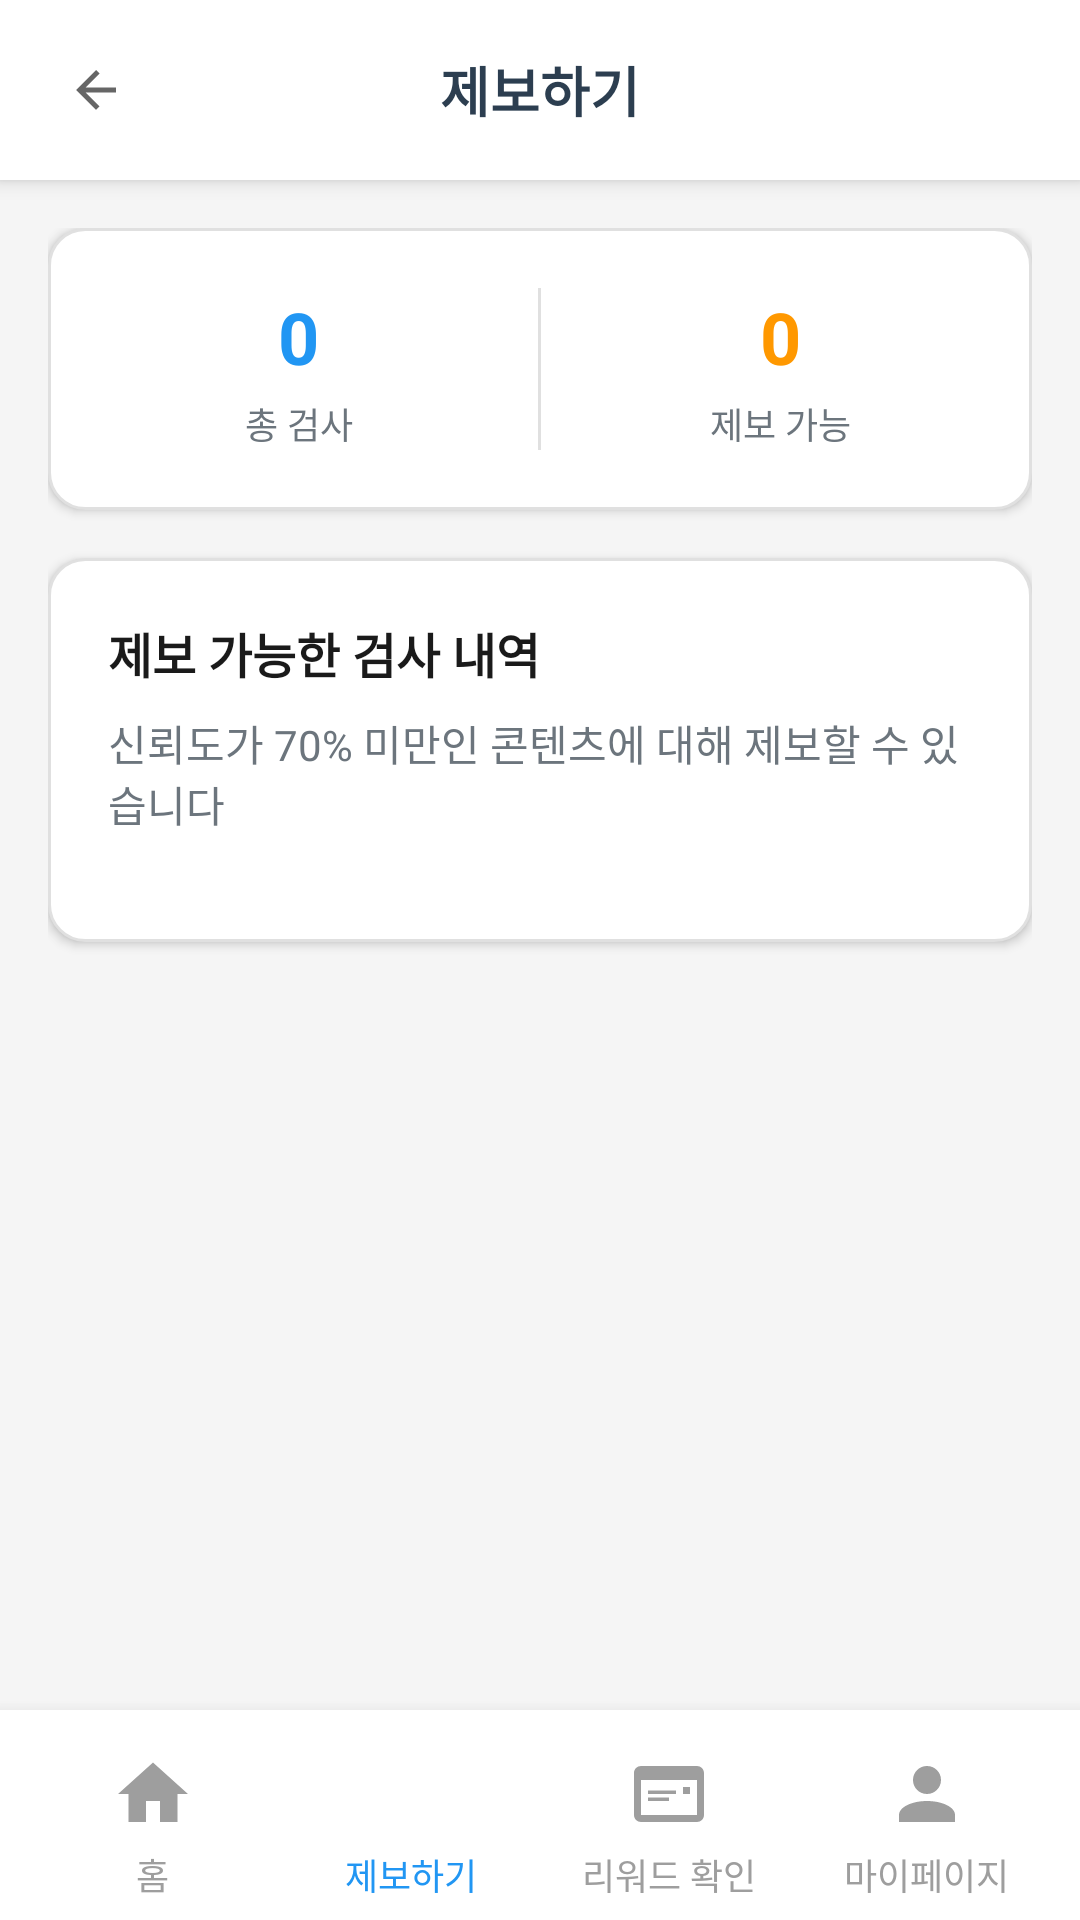

Point at icon controls on the screen. Image size 1080px x 1920px, points as [x,y].
arrow back: [96,90]
person: [927,1794]
ticket: [669,1794]
